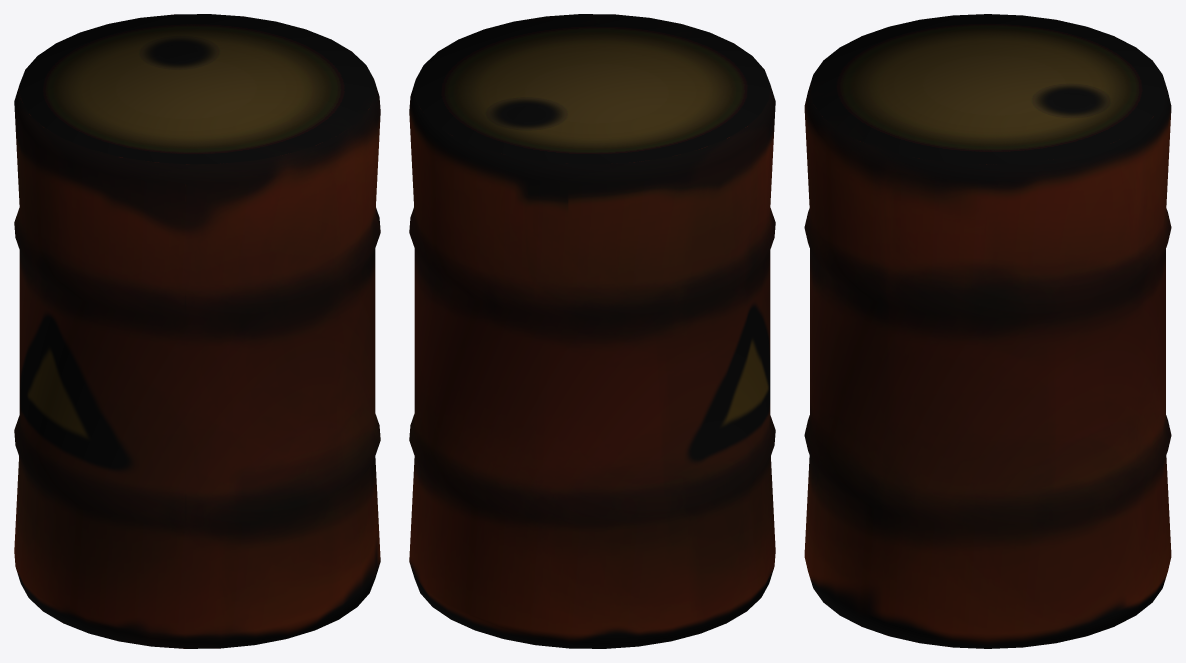
Rendered from Barrel.fbx.
3 renders of one model, left to right at view 1: azimuth 30°, elevation 25°; view 2: azimuth 150°, elevation 25°; view 3: azimuth 270°, elevation 25°, orthographic.
Visible parts, largest first — view 1: Cylinder; view 2: Cylinder; view 3: Cylinder.
Part boxes in pixels (x1,y1,x2,y2): Cylinder: [14, 14, 380, 648]; Cylinder: [409, 14, 775, 648]; Cylinder: [804, 14, 1171, 648].
Size of the model in its own units: 206 by 300 by 206.
